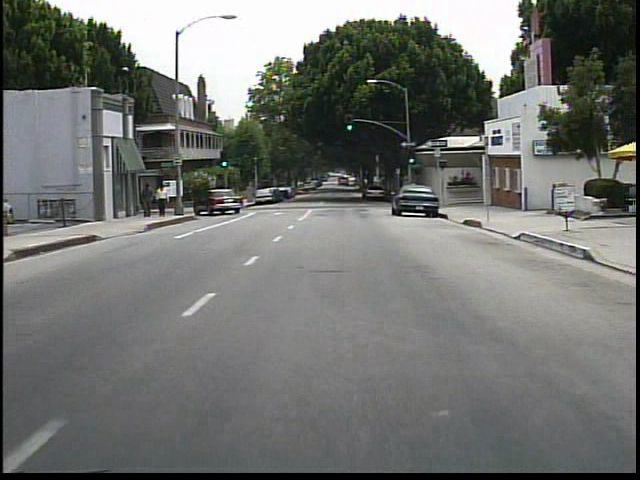person: (144, 182, 161, 218), (157, 183, 172, 219)
